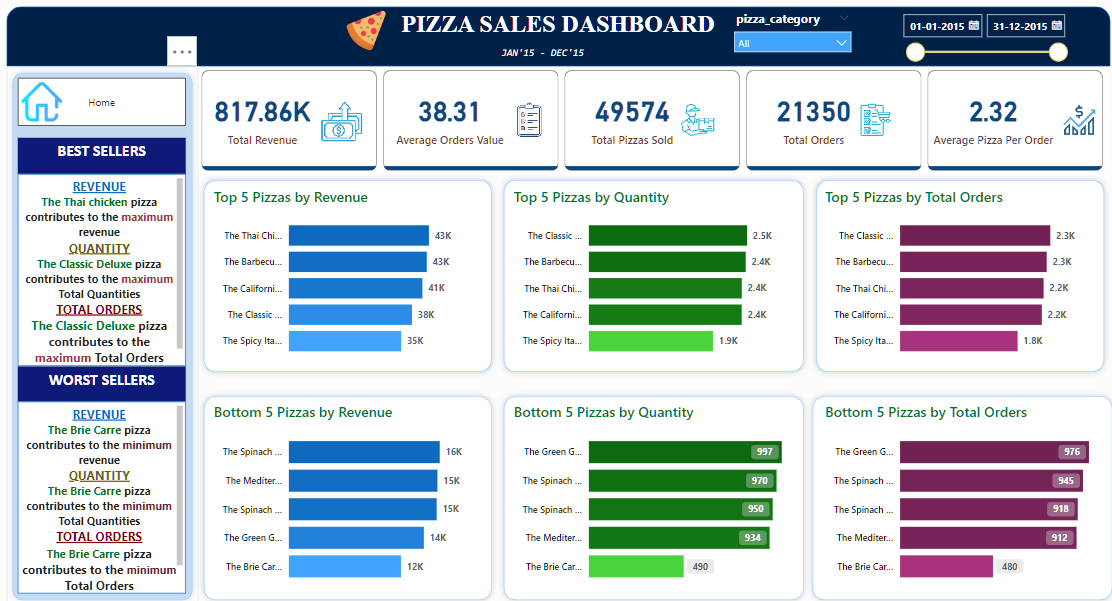

This screenshot's page, from the dashboard's own definition file:
{"tool":"powerbi","page":{"name":"Best/Worst Sellers","canvas":[1500,820],"ordinal":1},"visuals":[{"type":"cardVisual","fields":{"Data":["pizza_sales.Total Revenue","pizza_sales.Average Orders Value","pizza_sales.Total Pizzas Sold","pizza_sales.Total Orders","pizza_sales.Average Pizza Per Order"]},"box":[272,96,1216,144],"z":0},{"type":"shape","box":[16,16,1472,80],"z":1000},{"type":"textbox","box":[528,16,448,48],"z":2000},{"type":"textbox","box":[672,64,144,32],"z":3000},{"type":"image","box":[448,16,96,64],"z":4000},{"type":"shape","box":[272,240,400,272],"z":5000},{"type":"shape","box":[16,96,256,720],"z":6000},{"type":"textbox","box":[32,240,224,256],"z":7000},{"type":"textbox","box":[32,192,224,48],"z":8000},{"type":"textbox","box":[32,496,224,48],"z":9000},{"type":"textbox","box":[32,544,224,256],"z":10000},{"type":"slicer","fields":{"Values":["pizza_sales.pizza_category"]},"box":[976,16,176,80],"z":11000},{"type":"slicer","fields":{"Values":["pizza_sales.order_date"]},"box":[1200,16,240,80],"z":12000},{"type":"shape","box":[672,240,416,272],"z":13000},{"type":"shape","box":[1088,240,400,272],"z":14000},{"type":"shape","box":[272,528,400,288],"z":15000},{"type":"shape","box":[672,528,416,288],"z":16000},{"type":"shape","box":[1084,528,416,288],"z":17000},{"type":"barChart","title":"Top 5 Pizzas by Revenue","fields":{"Category":["pizza_sales.pizza_name"],"Y":["pizza_sales.Total Revenue"]},"box":[288,256,368,240],"z":18000},{"type":"barChart","title":"Bottom 5 Pizzas by Revenue","fields":{"Category":["pizza_sales.pizza_name"],"Y":["pizza_sales.Total Revenue"]},"box":[288,544,368,256],"z":19000},{"type":"barChart","title":"Top 5 Pizzas by Quantity","fields":{"Category":["pizza_sales.pizza_name"],"Y":["pizza_sales.Total Pizzas Sold"]},"box":[688,256,368,240],"z":20000},{"type":"barChart","title":"Bottom 5 Pizzas by Quantity","fields":{"Category":["pizza_sales.pizza_name"],"Y":["pizza_sales.Total Pizzas Sold"]},"box":[688,544,368,256],"z":21000},{"type":"barChart","title":"Top 5 Pizzas by Total Orders","fields":{"Category":["pizza_sales.pizza_name"],"Y":["pizza_sales.Total Orders"]},"box":[1104,256,368,240],"z":22000},{"type":"barChart","title":"Bottom 5 Pizzas by Total Orders","fields":{"Category":["pizza_sales.pizza_name"],"Y":["pizza_sales.Total Orders"]},"box":[1104,544,368,256],"z":23000},{"type":"pageNavigator","box":[32,112,224,64],"z":23001},{"type":"image","box":[32,112,64,64],"z":23002}]}

Visuals, with their boxes in screenshot pixels (x1, y1, x2, y2), scaled from the page's 1500x820 canvas onto the 1112x601 screenshot:
cardVisual - pizza_sales.Total Revenue x pizza_sales.Average Orders Value: 202, 70, 1103, 176
shape: 12, 12, 1103, 70
textbox: 391, 12, 724, 47
textbox: 498, 47, 605, 70
image: 332, 12, 403, 59
shape: 202, 176, 498, 375
shape: 12, 70, 202, 598
textbox: 24, 176, 190, 364
textbox: 24, 141, 190, 176
textbox: 24, 364, 190, 399
textbox: 24, 399, 190, 586
slicer - pizza_sales.pizza_category: 724, 12, 854, 70
slicer - pizza_sales.order_date: 890, 12, 1068, 70
shape: 498, 176, 807, 375
shape: 807, 176, 1103, 375
shape: 202, 387, 498, 598
shape: 498, 387, 807, 598
shape: 804, 387, 1111, 598
"Top 5 Pizzas by Revenue" barChart: 214, 188, 486, 364
"Bottom 5 Pizzas by Revenue" barChart: 214, 399, 486, 586
"Top 5 Pizzas by Quantity" barChart: 510, 188, 783, 364
"Bottom 5 Pizzas by Quantity" barChart: 510, 399, 783, 586
"Top 5 Pizzas by Total Orders" barChart: 818, 188, 1091, 364
"Bottom 5 Pizzas by Total Orders" barChart: 818, 399, 1091, 586
pageNavigator: 24, 82, 190, 129
image: 24, 82, 71, 129
